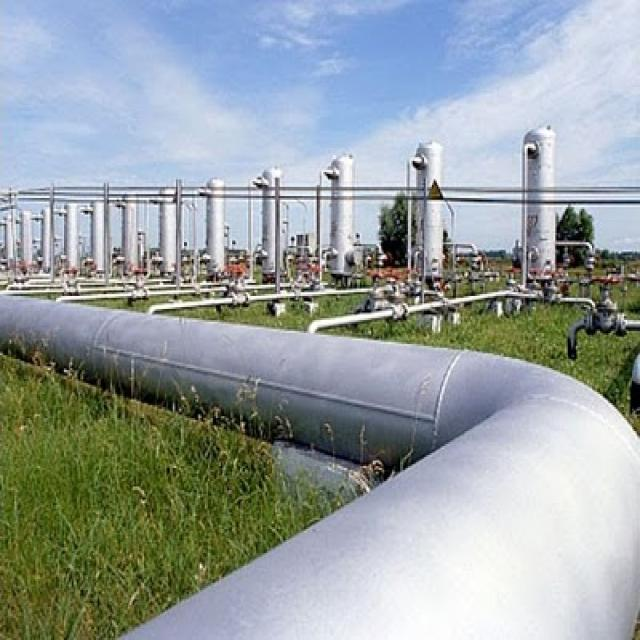gas: (4, 294, 640, 640), (310, 289, 505, 335), (152, 288, 372, 313)
